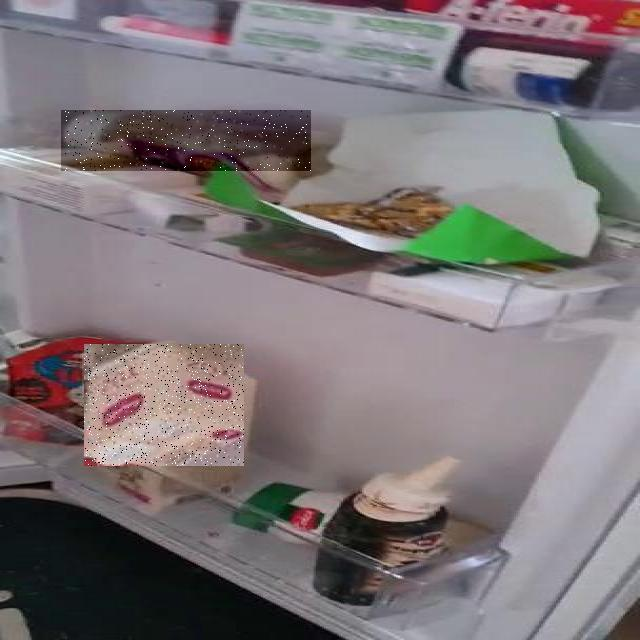milk: (0, 233, 206, 640)
